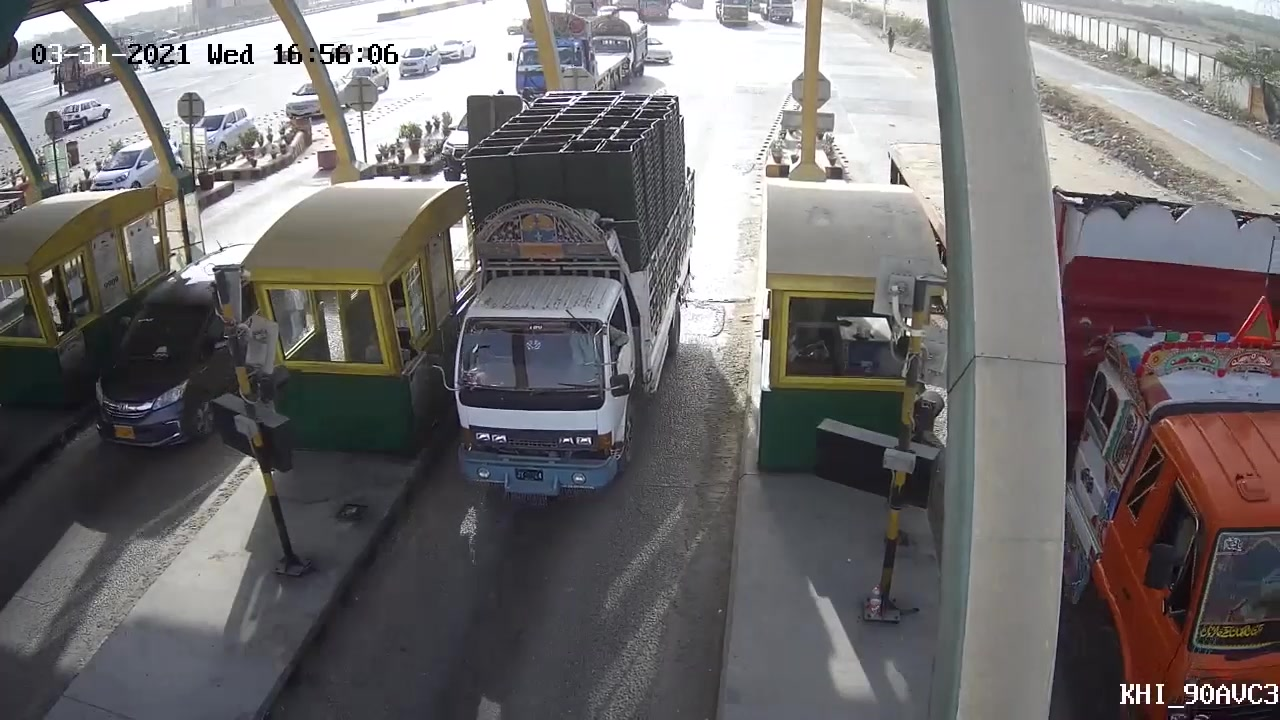F5: (443, 89, 701, 504)
